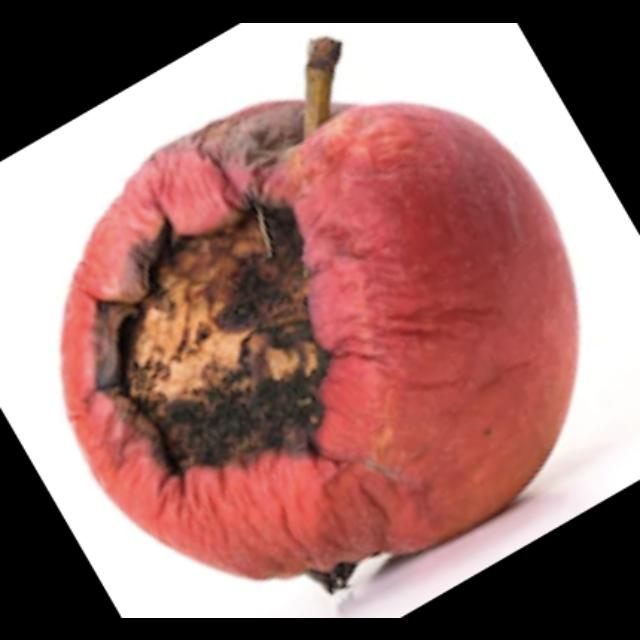Apel Tidak Segar: (46, 70, 608, 596)
